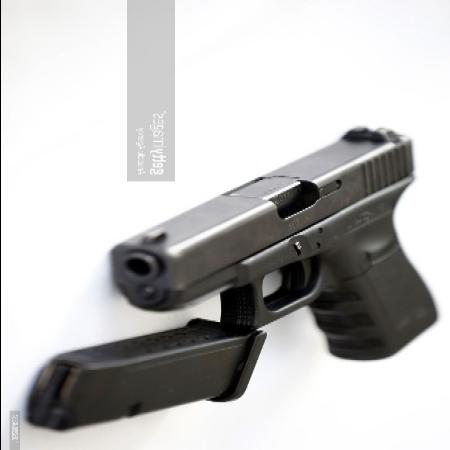Pistol: (112, 126, 444, 370)
